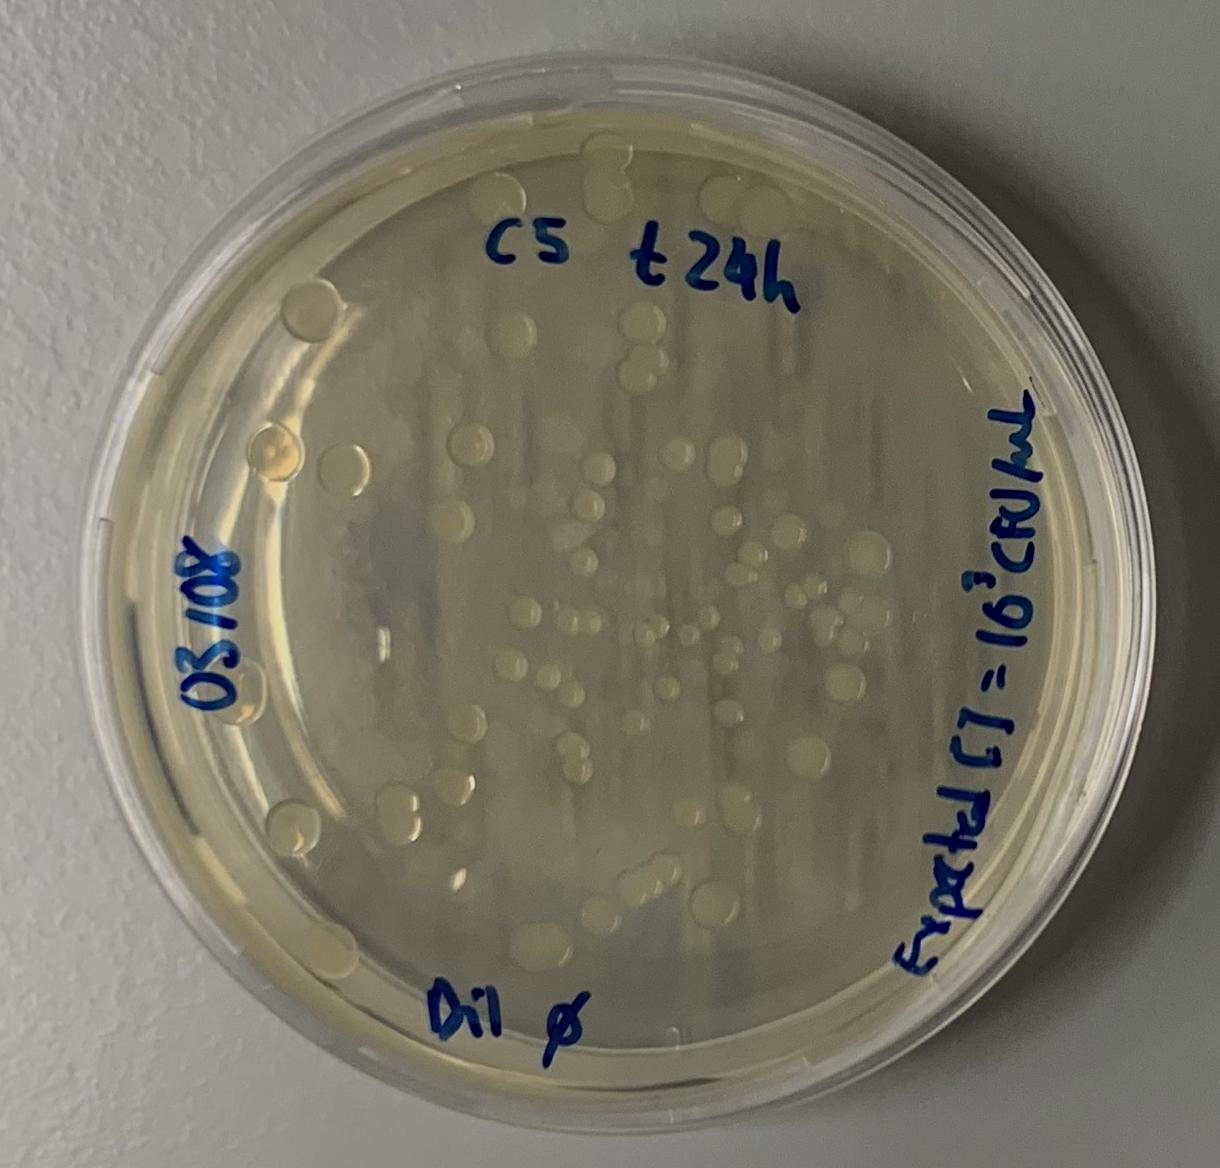colony: (699, 172, 790, 238), (577, 126, 635, 228), (205, 654, 269, 733), (243, 416, 306, 485), (280, 278, 342, 344), (263, 795, 322, 860), (618, 849, 683, 905), (471, 170, 527, 232), (317, 440, 373, 500), (306, 921, 361, 982), (374, 782, 422, 847), (513, 921, 570, 974), (841, 528, 892, 583), (688, 876, 740, 929), (614, 348, 671, 396), (705, 430, 751, 489), (446, 419, 497, 471), (717, 779, 761, 837), (619, 295, 669, 346), (487, 309, 536, 362), (783, 731, 832, 783), (427, 495, 476, 545), (722, 537, 768, 588), (554, 729, 594, 787), (428, 766, 476, 810), (782, 567, 827, 610), (823, 661, 867, 704), (448, 698, 487, 745), (578, 895, 620, 936), (658, 435, 697, 475), (771, 511, 808, 552), (570, 487, 608, 526), (582, 449, 619, 488), (507, 592, 542, 632), (633, 612, 670, 648), (493, 646, 528, 684), (712, 634, 745, 674), (708, 500, 743, 536), (671, 798, 705, 832), (712, 697, 745, 729), (569, 547, 600, 579), (652, 672, 684, 704), (577, 607, 606, 638), (558, 682, 586, 710), (556, 606, 581, 637), (618, 710, 646, 738), (535, 662, 562, 691), (757, 626, 784, 655), (698, 606, 721, 630)
